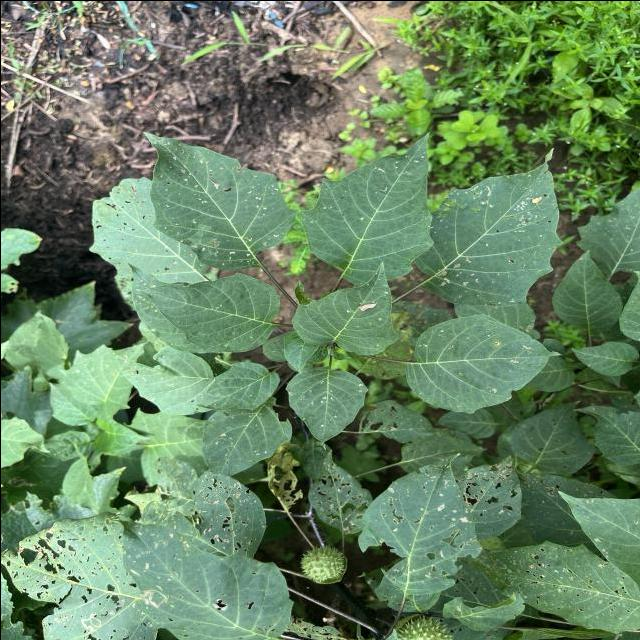Datura metal linn: (410, 144, 564, 308), (138, 129, 299, 272), (297, 128, 435, 286), (399, 312, 563, 416), (130, 270, 282, 356), (288, 258, 405, 358), (282, 364, 371, 452), (192, 359, 282, 413)
